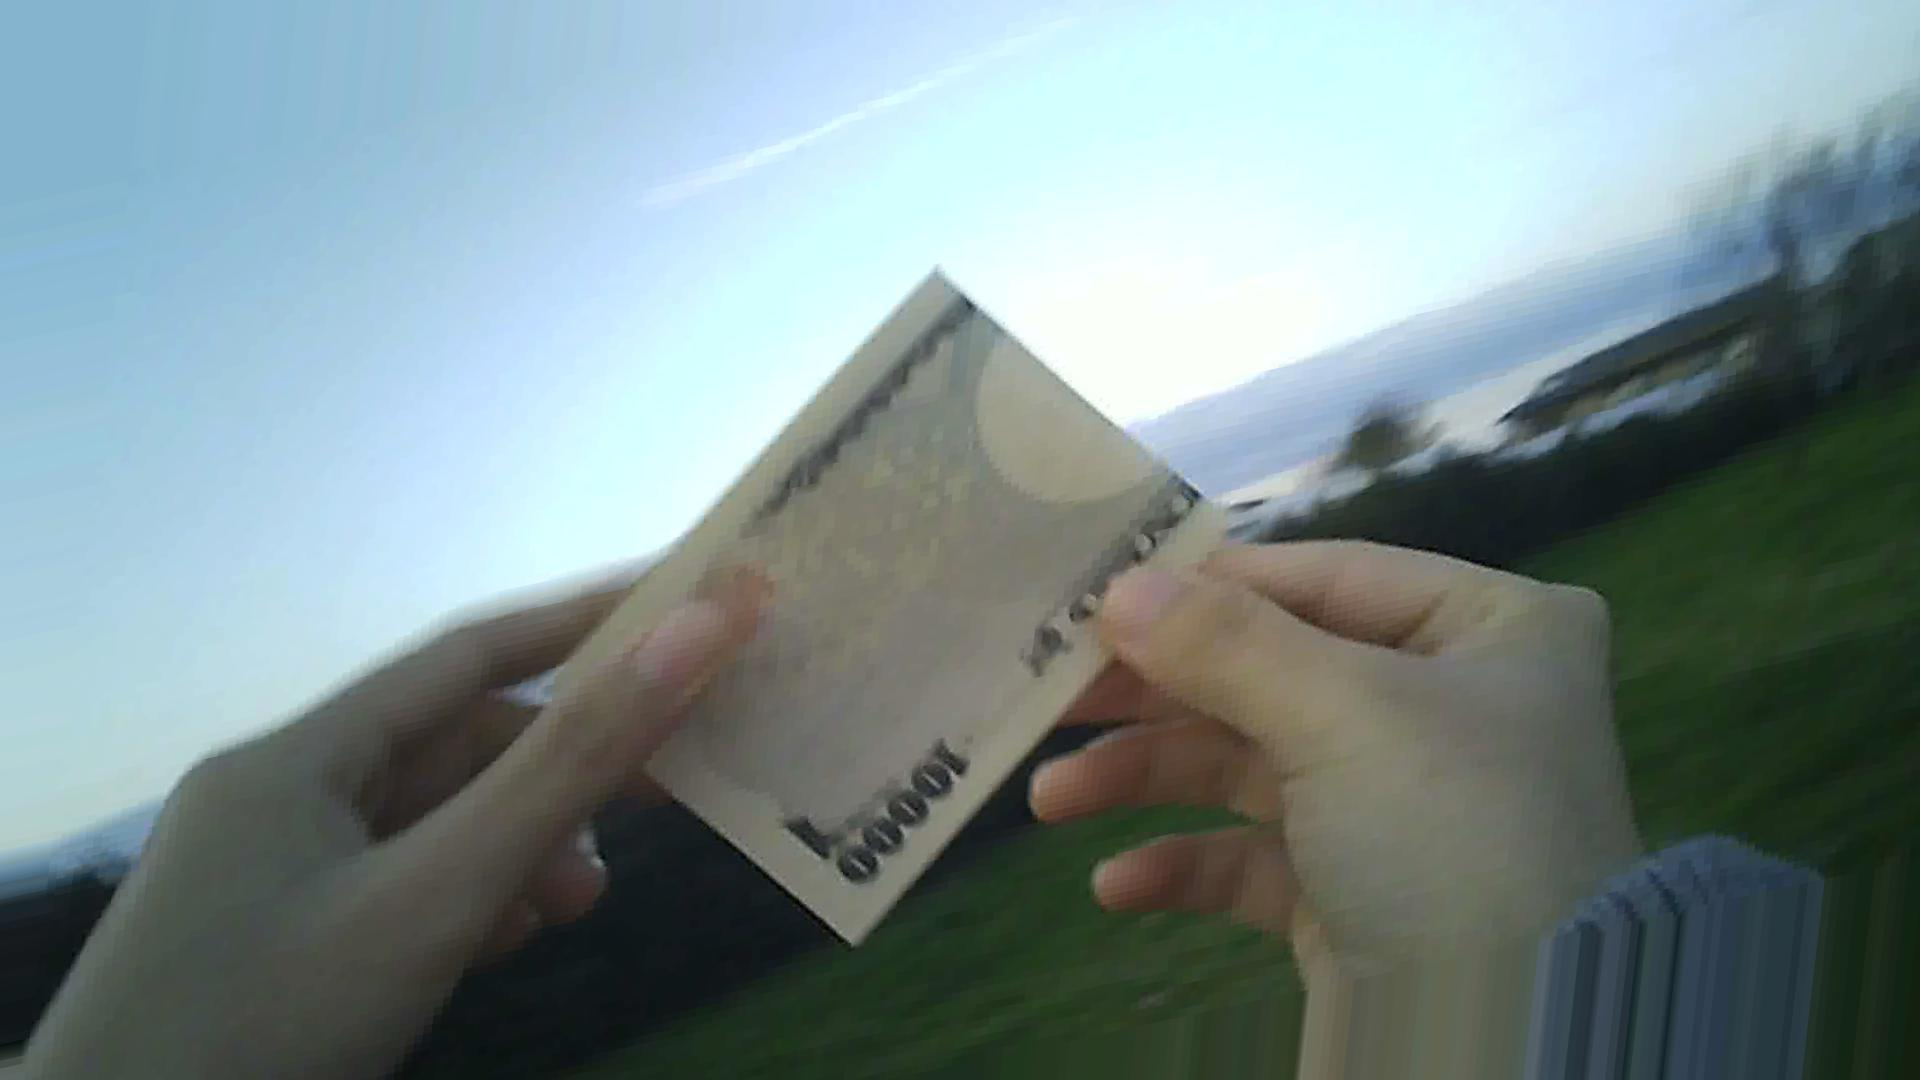10,000 Yen: (568, 270, 1207, 911)
